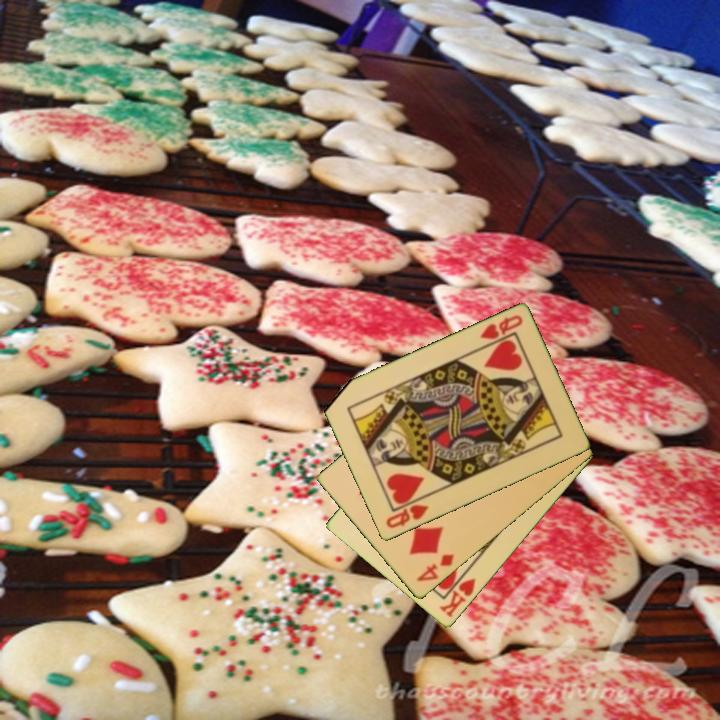4d: (413, 551, 457, 585)
Kh: (436, 567, 478, 621)
Qh: (476, 311, 525, 343), (382, 501, 432, 532)
